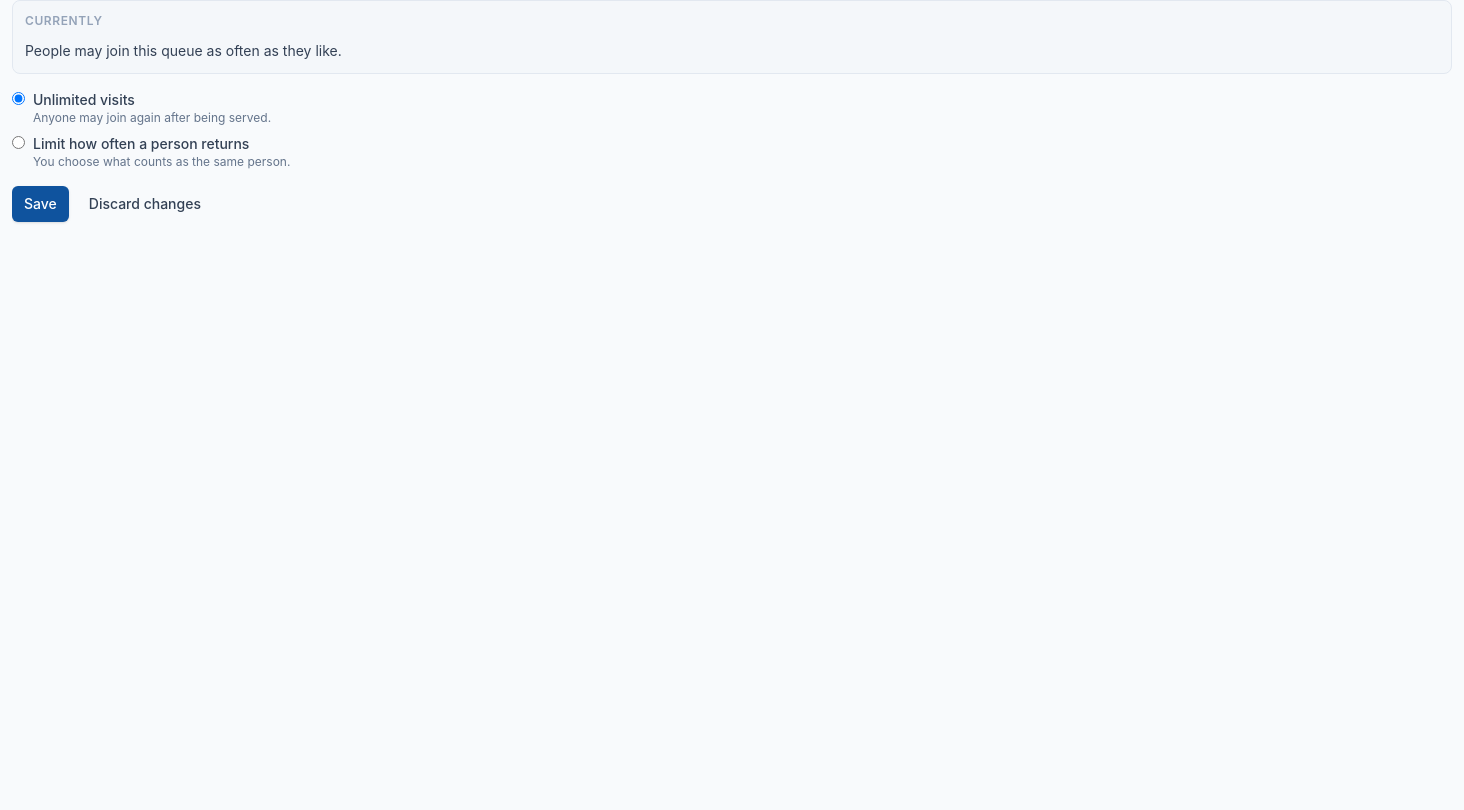
it: RepeatVisitPolicy › needs no timezone for a window measured in hours
The image size is (1464, 810).
Click the radio button labelled "Limit how often a person returns": (18, 142) [12,136,25,149]
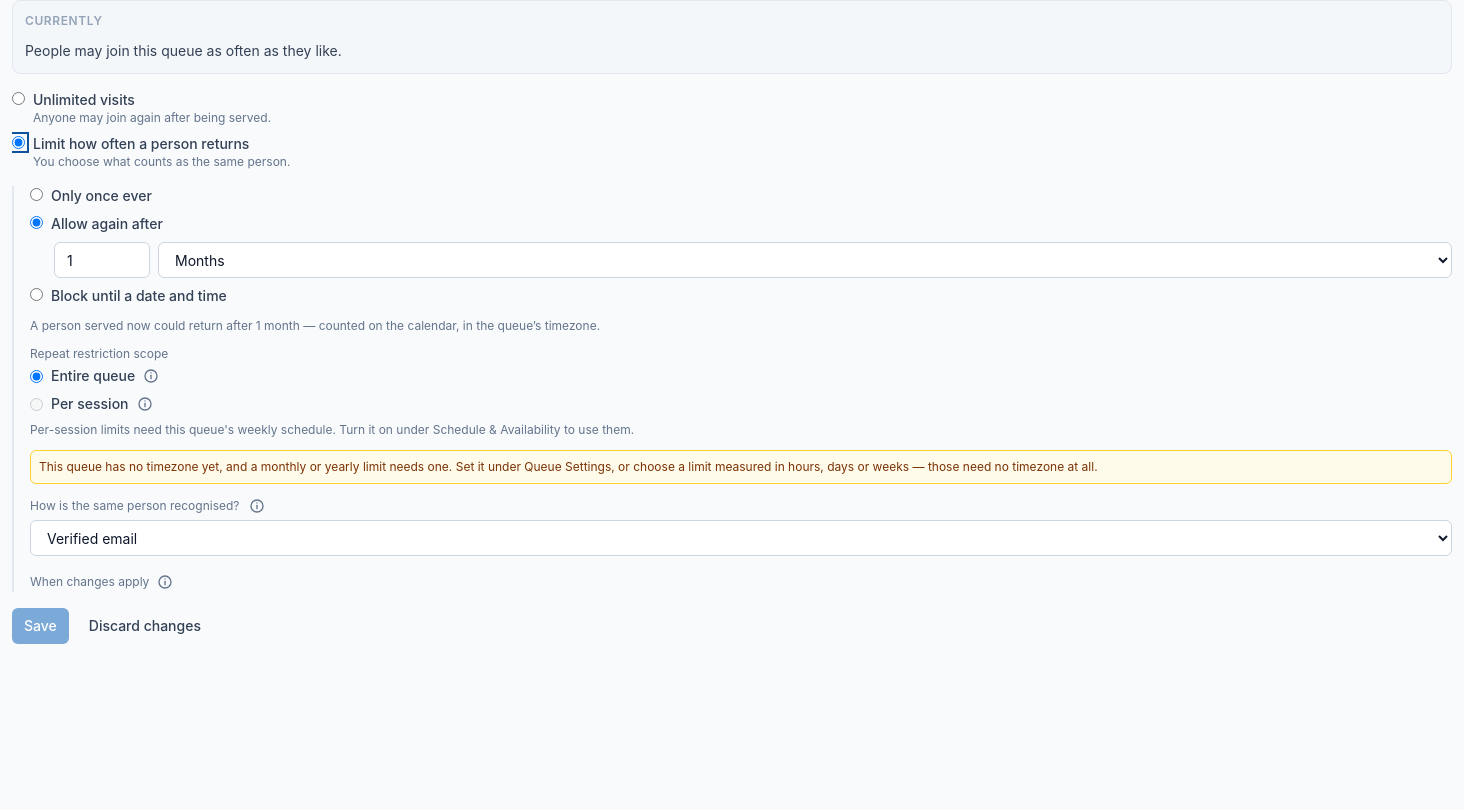
Select "Custom unique field" in the dropdown labelled "How is the same person recognised?": (741, 538) [30,520,1452,556]
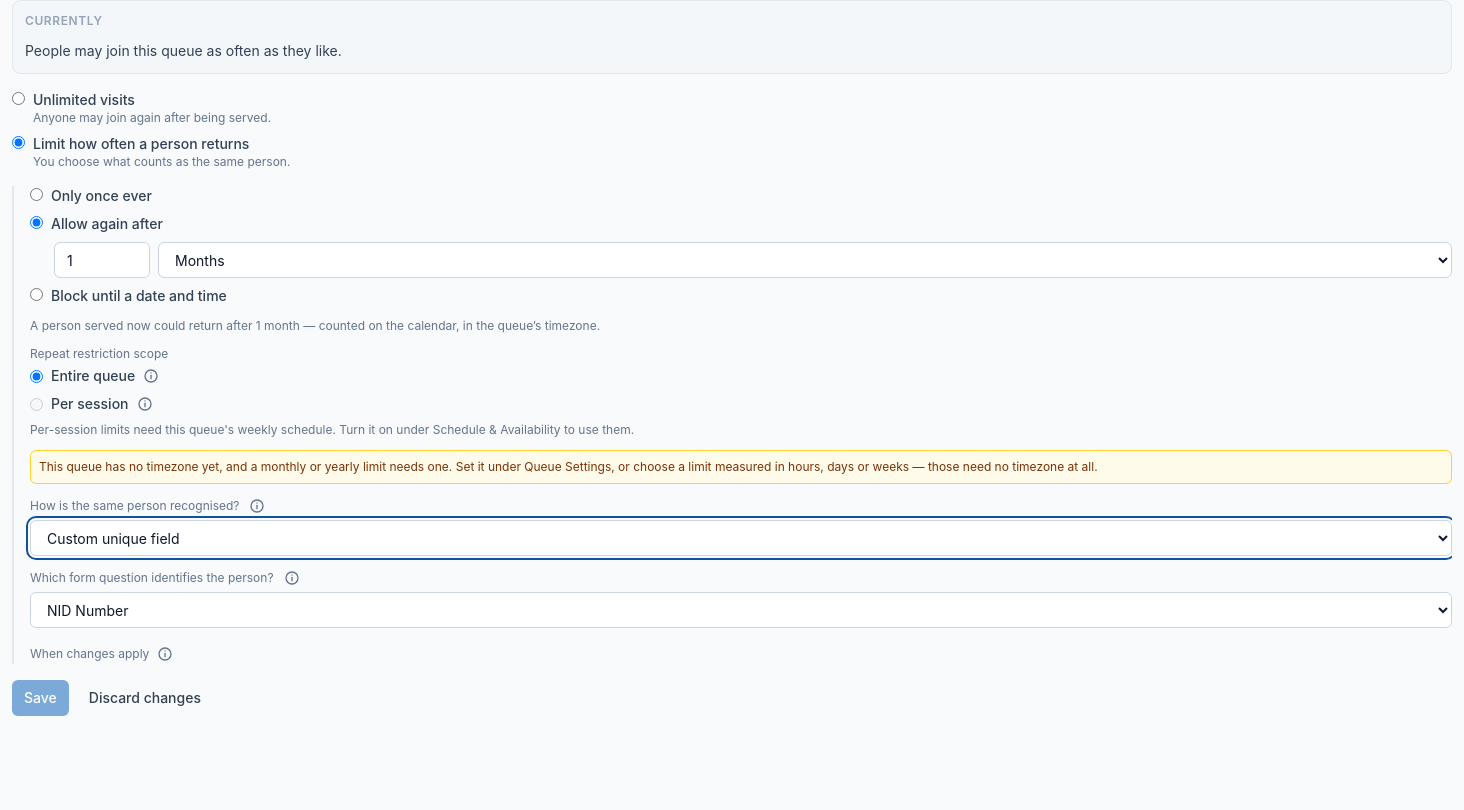
Click the radio button labelled "Allow again after": (36, 222) [30,216,43,229]
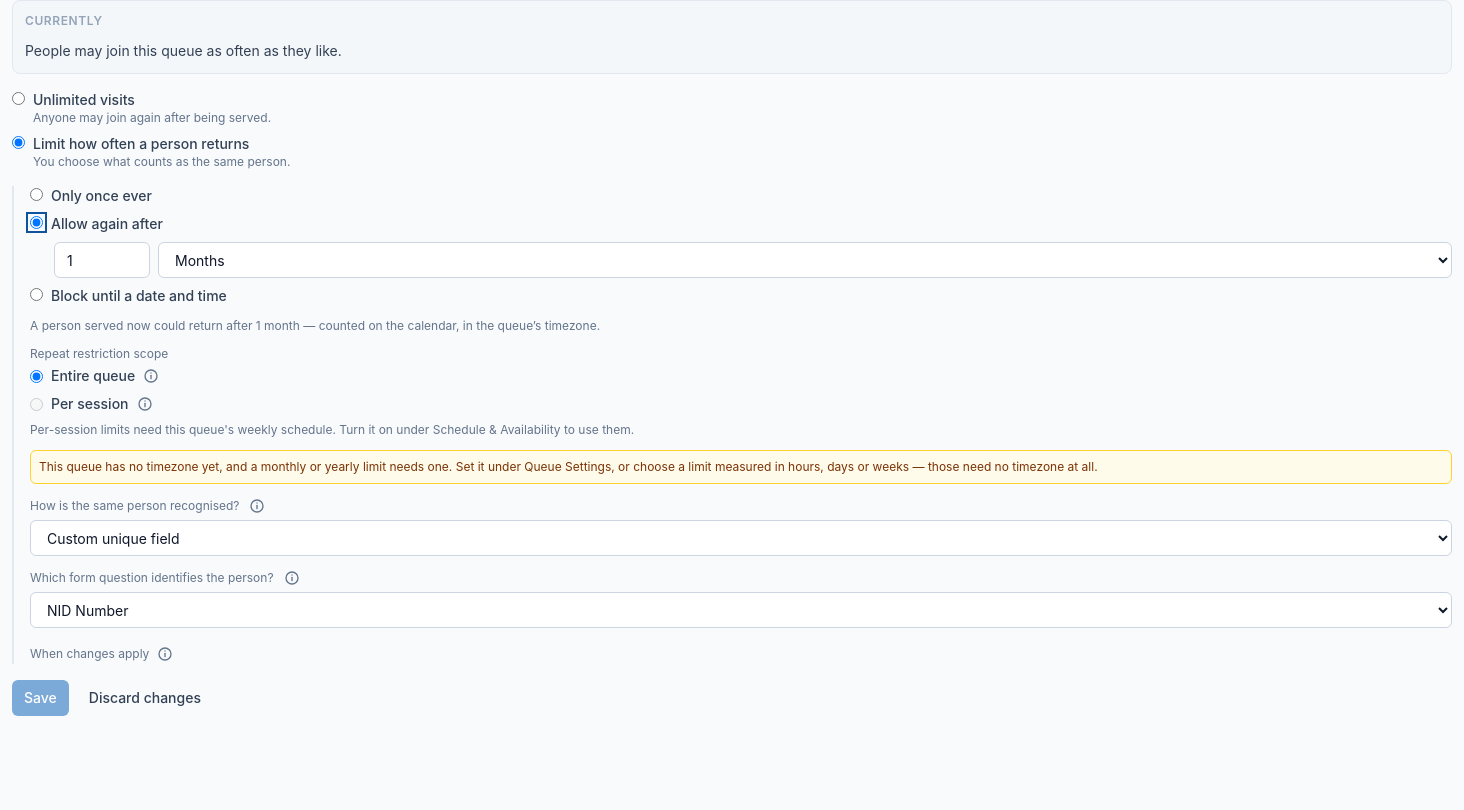
Select "Hours" in the dropdown named "Unit": (805, 260) [158,242,1452,278]
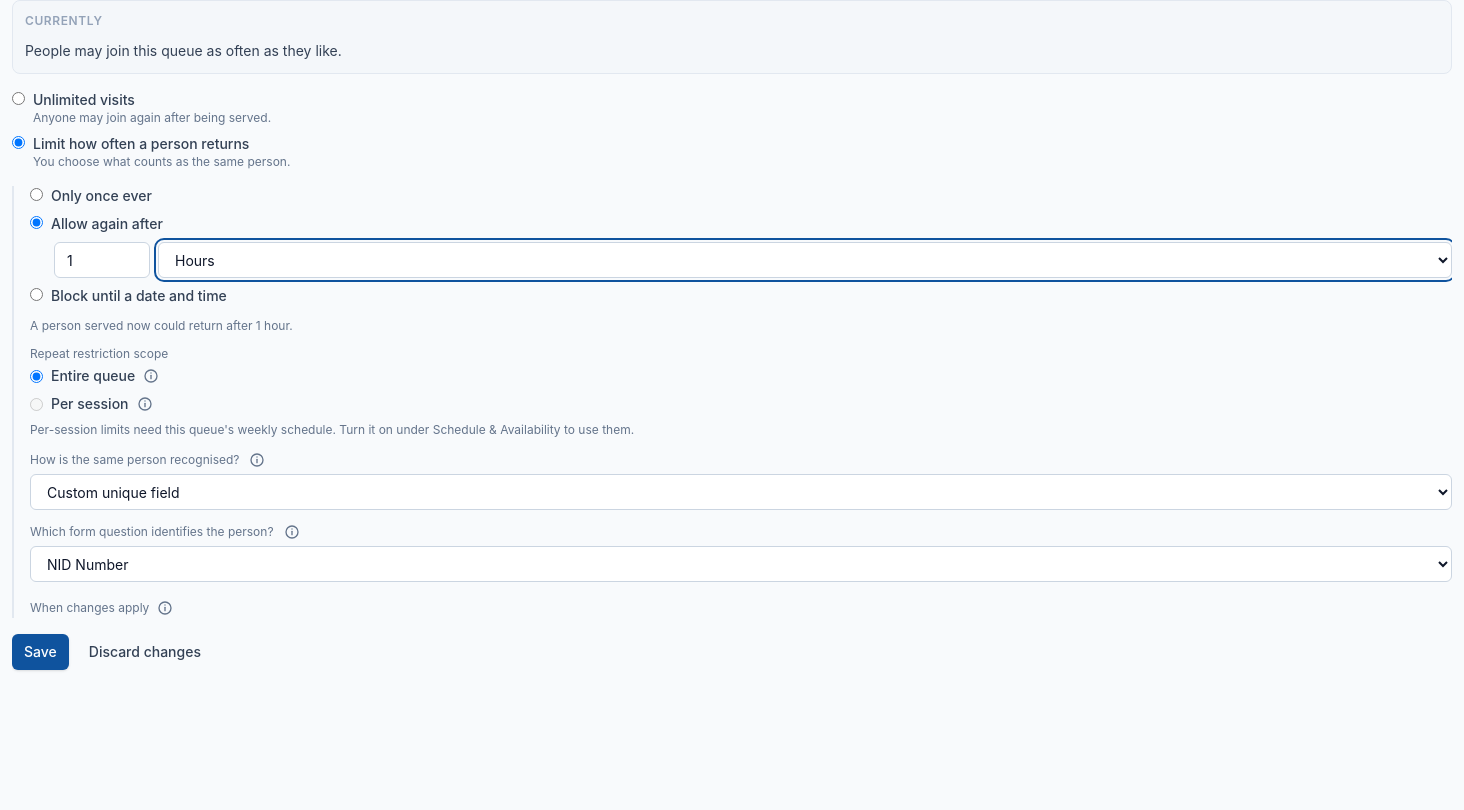
Result: the text "has no timezone yet" is gone
Result: the button "Save" is enabled at [12,634,69,670]
